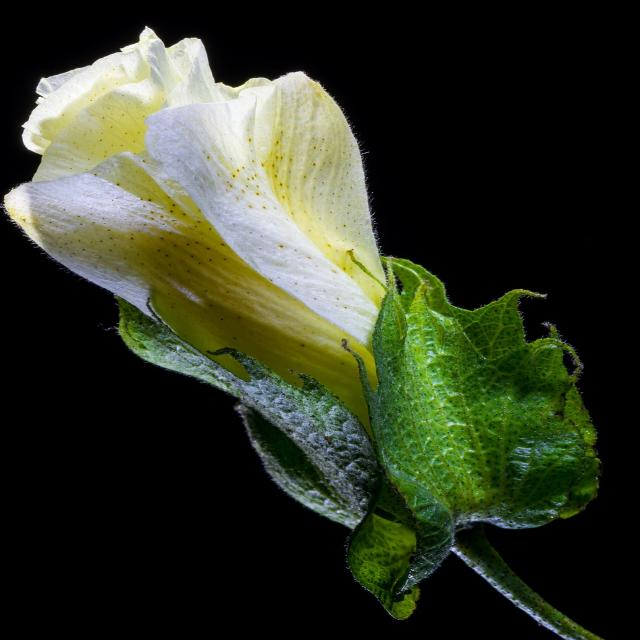Cotton Blossom: (17, 13, 570, 616)
